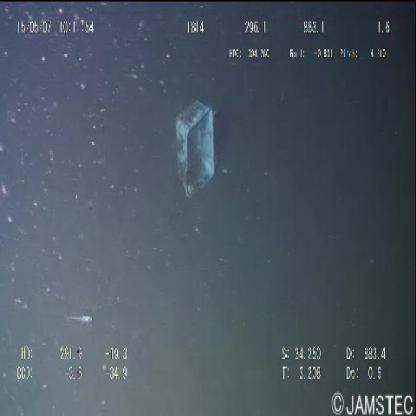Rác: (174, 102, 216, 199)
